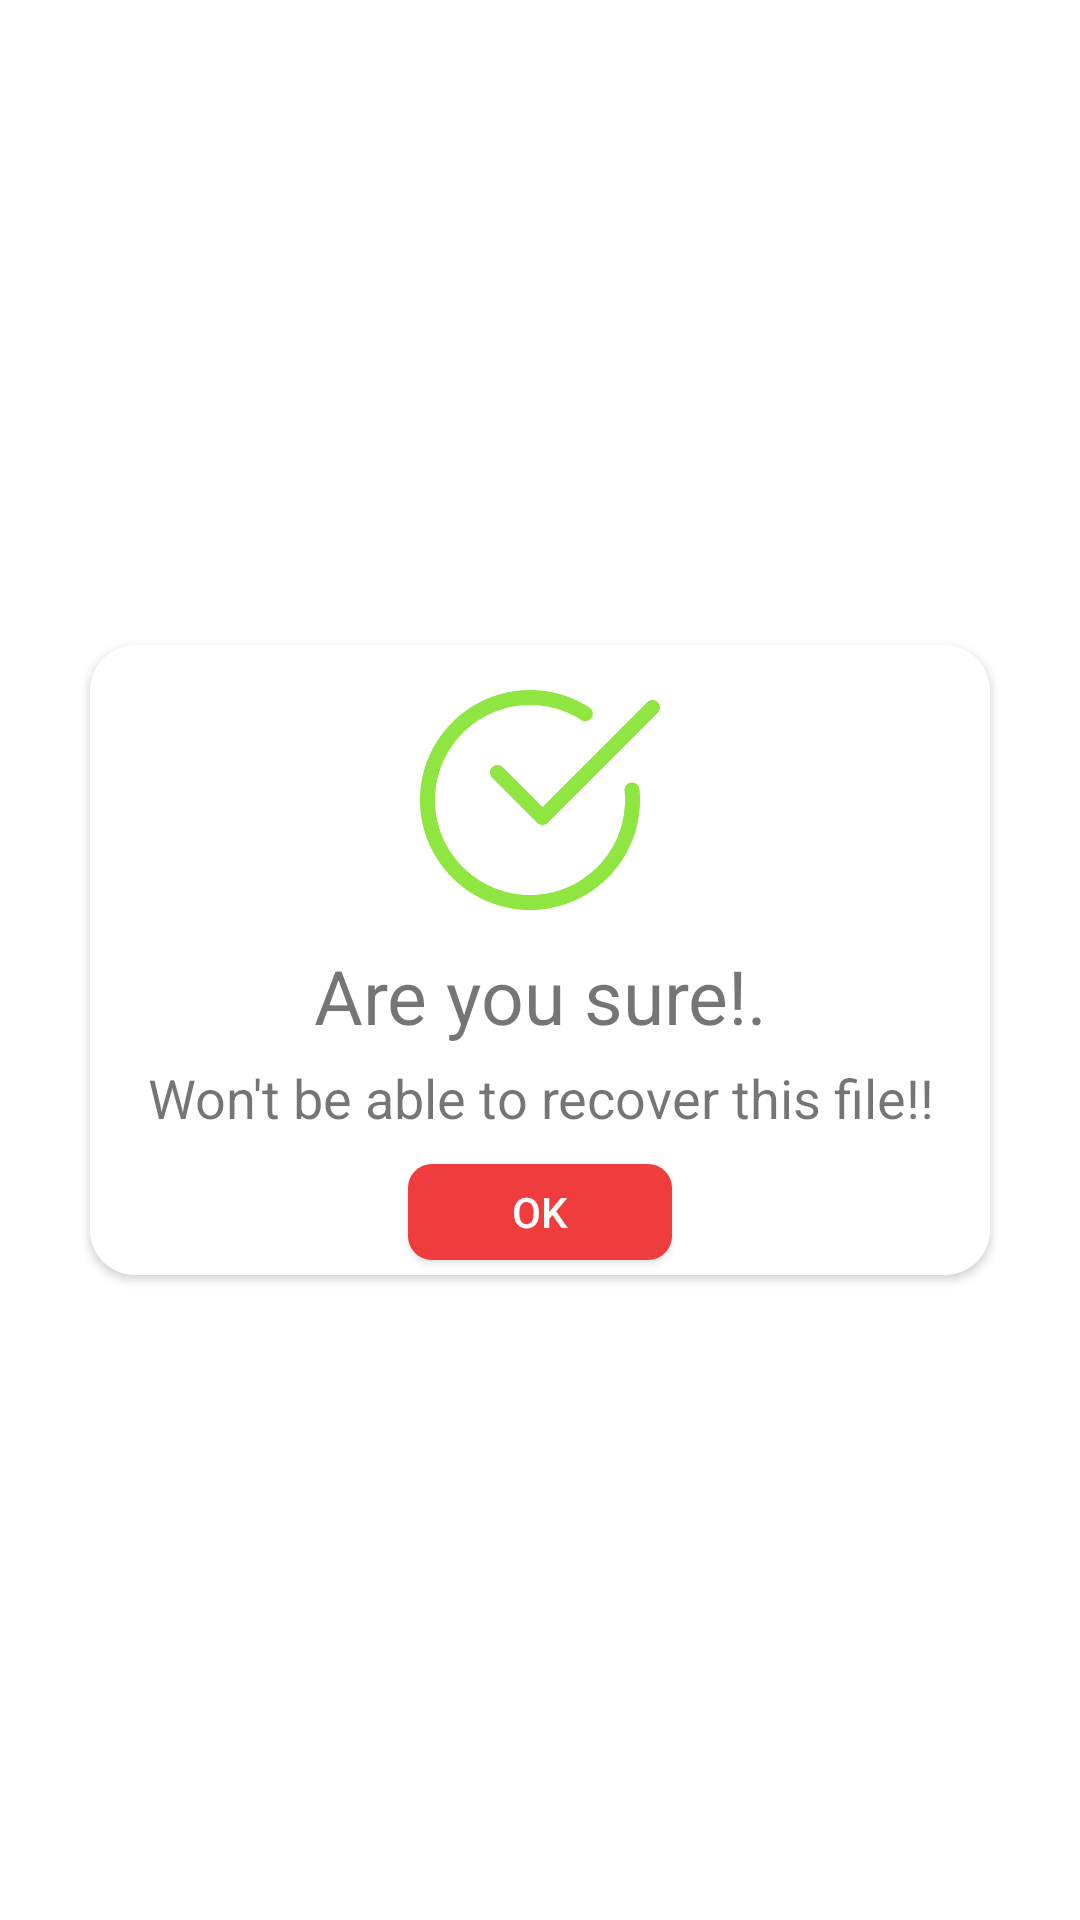

Icons on this 1080×1920 Android screen, each with the point to tap as [x,y]:
checkmark: [540,800]
